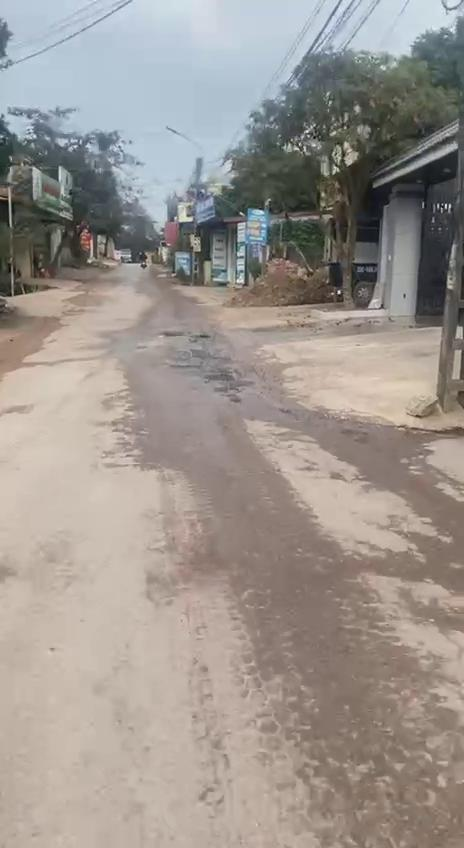pothole: (202, 372, 256, 405)
